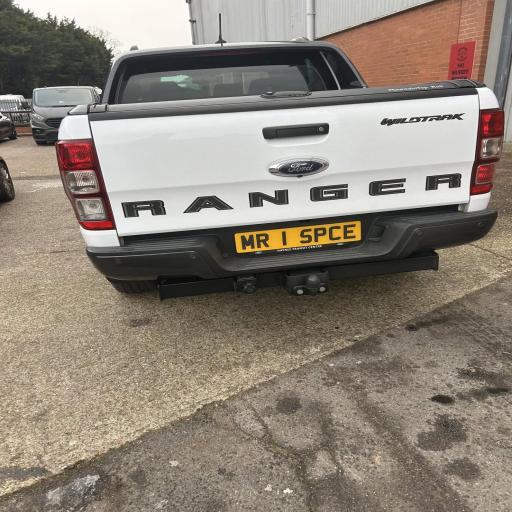numberplates: (235, 222, 361, 253)
